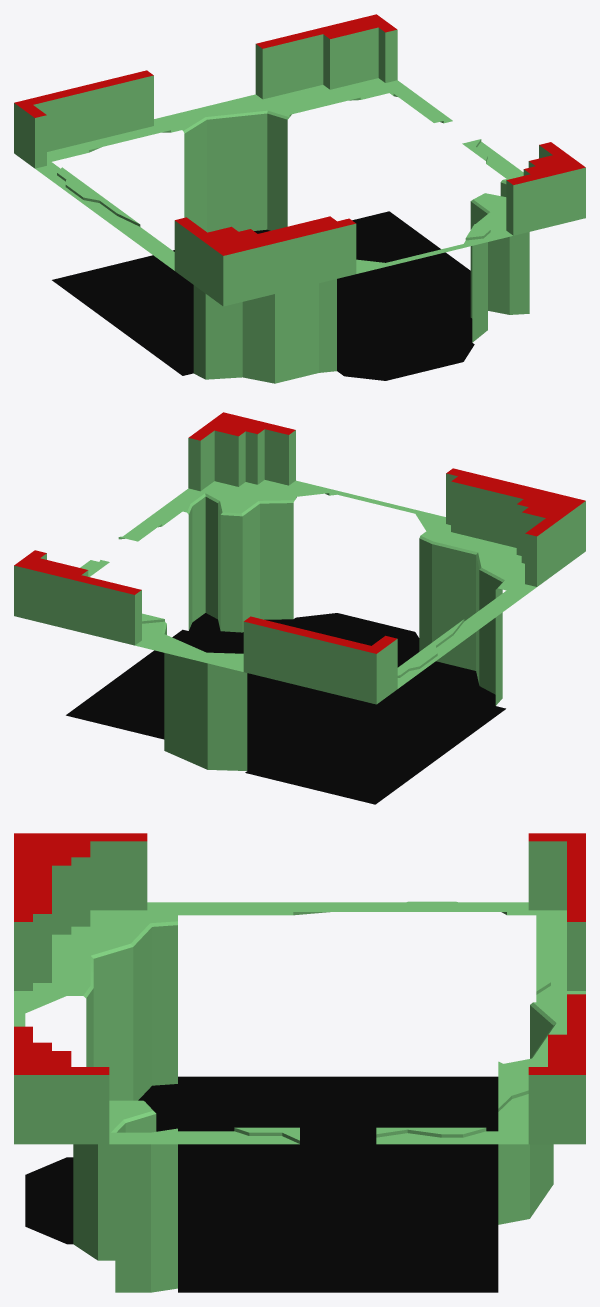
The model's file is x_oo_ground_51_K5_1_rmstrd.fbx.
3 views of the same model, one above another, from view 1: azimuth 30°, elevation 25°; view 2: azimuth 150°, elevation 25°; view 3: azimuth 270°, elevation 25° (orthographic). The views are drawn at different scales.
Visible parts, largest first — view 1: x_oo_ground_51_K5_1_rmstrd1; view 2: x_oo_ground_51_K5_1_rmstrd1; view 3: x_oo_ground_51_K5_1_rmstrd1.
Boxes of the visible parts, x1=… form: x_oo_ground_51_K5_1_rmstrd1: x1=14, y1=14, x2=585, y2=383; x_oo_ground_51_K5_1_rmstrd1: x1=14, y1=412, x2=585, y2=804; x_oo_ground_51_K5_1_rmstrd1: x1=14, y1=833, x2=585, y2=1292.
Bounding box in the file's own units: 30 × 13.34 × 30.
